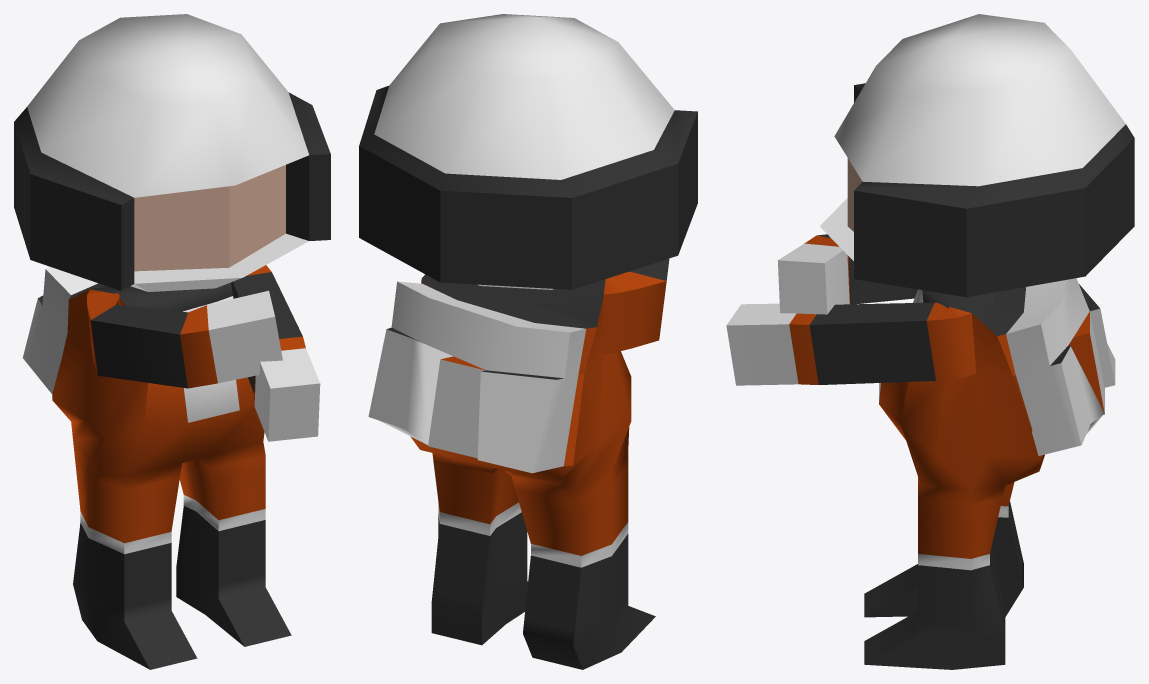
File: Astronaut_player_Export.fbx
3 views of the same model, side by side, from view 1: azimuth 30°, elevation 25°; view 2: azimuth 150°, elevation 25°; view 3: azimuth 270°, elevation 25° (orthographic). The views are drawn at different scales.
Parts seen in each view (by area): view 1: AstronautPlayerMesh; view 2: AstronautPlayerMesh; view 3: AstronautPlayerMesh.
Boxes of the visible parts, <box> form: AstronautPlayerMesh: <box>14,14,330,669</box>; AstronautPlayerMesh: <box>359,14,697,669</box>; AstronautPlayerMesh: <box>726,14,1134,669</box>.
Bounding box in the file's own units: 2.17 × 4.21 × 2.64.
